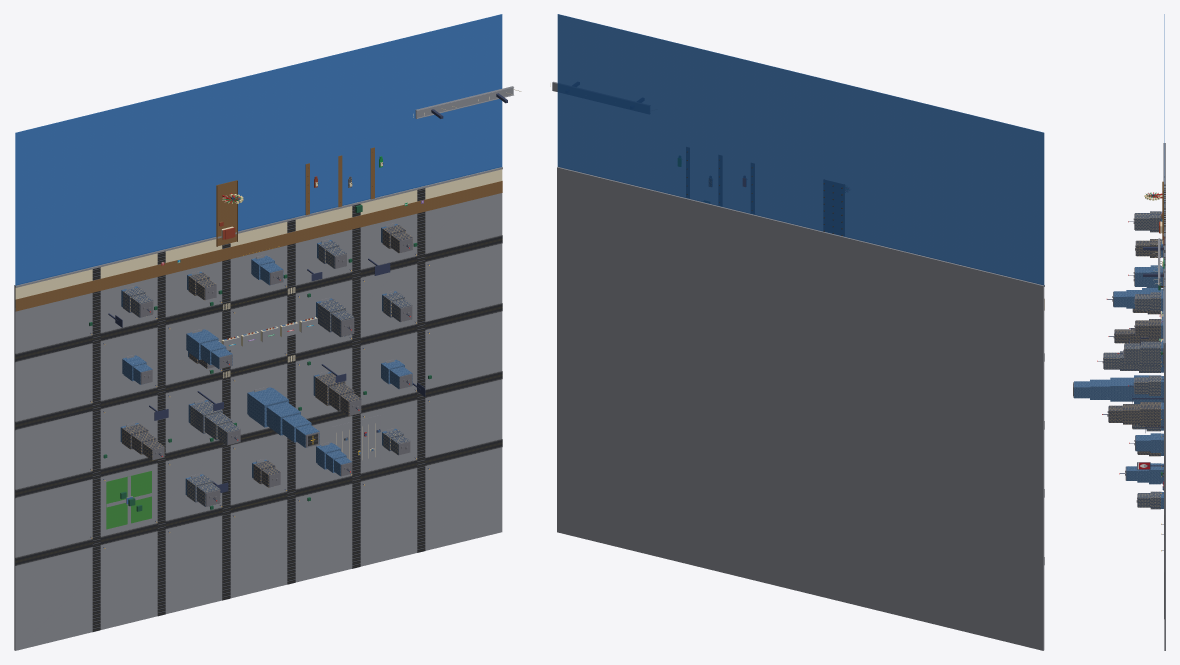
File: low_poly_city.obj
3 views of the same model, side by side, from view 1: azimuth 30°, elevation 25°; view 2: azimuth 150°, elevation 25°; view 3: azimuth 270°, elevation 25° (orthographic). The views are drawn at different scales.
Parts seen in each view (by area): view 1: Concrete, Water, Asphalt, Wood, FacadeGlass, Sand, FacadeA, FacadeB, Stone, RoofGrey, Grass, Slate (+1 smaller); view 2: Concrete, Water; view 3: FacadeGlass, FacadeA, FacadeB, Concrete, Glass, Slate, Stone, RoofGrey, Water, Asphalt, Wood.
Boxes of the visible parts, x1,y1,x2,y2 form: Concrete: (14, 86, 513, 650); Water: (15, 14, 502, 503); Asphalt: (15, 188, 502, 631); Wood: (15, 147, 502, 311); FacadeGlass: (123, 256, 412, 476); Sand: (15, 169, 502, 307); FacadeA: (123, 241, 412, 506); FacadeB: (122, 176, 412, 487); Stone: (15, 167, 502, 524); RoofGrey: (140, 238, 412, 506); Grass: (106, 471, 151, 529); Slate: (90, 93, 507, 547); Concrete: (552, 81, 1044, 650); Water: (557, 14, 1044, 285); FacadeGlass: (1074, 265, 1160, 484); FacadeA: (1104, 211, 1160, 509); FacadeB: (1109, 239, 1164, 476); Concrete: (1158, 143, 1165, 650); Glass: (1161, 211, 1163, 508); Slate: (1098, 194, 1163, 550); Stone: (1160, 143, 1164, 495); RoofGrey: (1073, 213, 1137, 507); Water: (1164, 14, 1164, 344); Asphalt: (1073, 176, 1164, 618); Wood: (1161, 181, 1163, 364).
Size of the model in its own units: 616 by 610 by 118.
28 materials, 20 textured.
